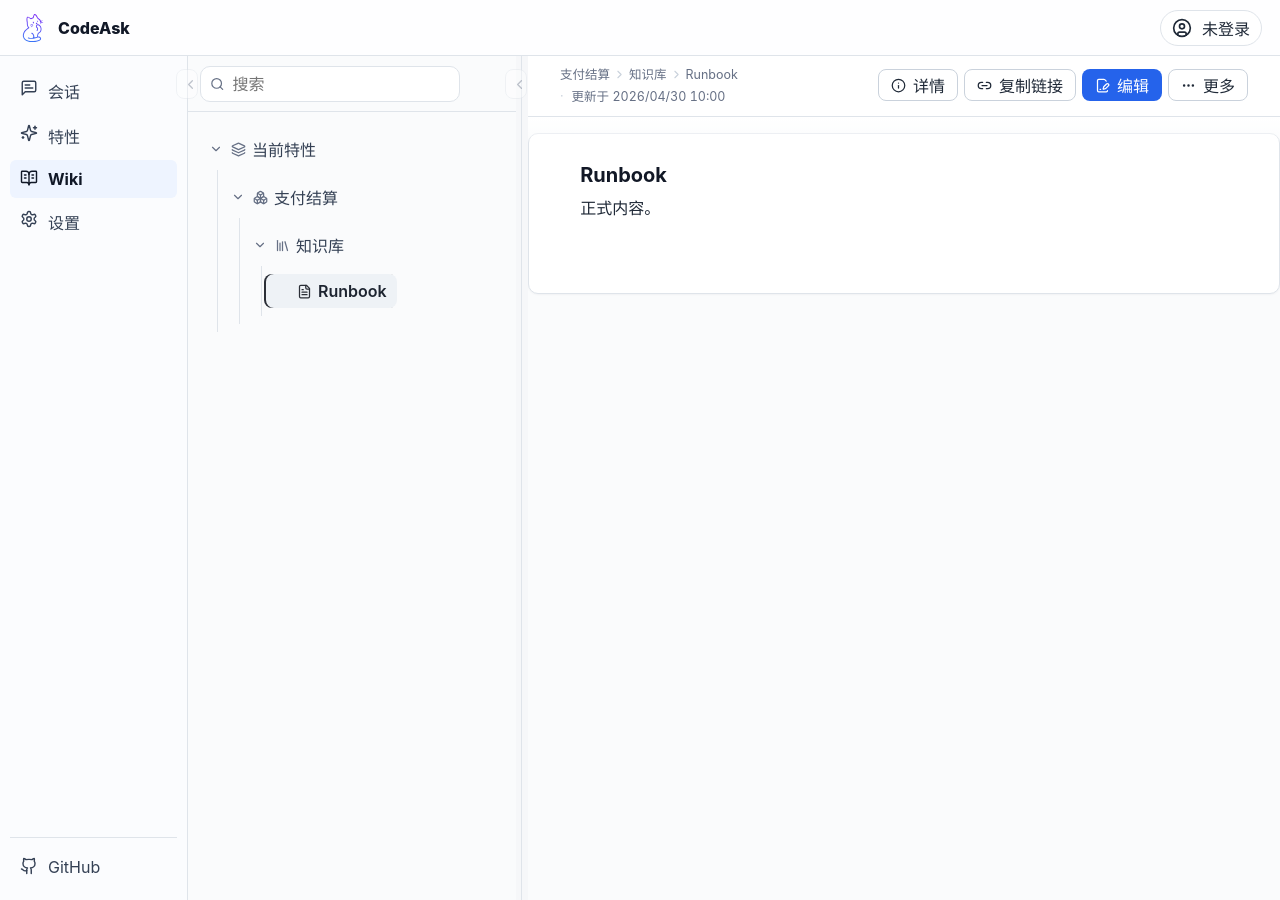
Test: Wiki edit leave workflow › restores the expanded tree after leaving edit mode when it was expanded before editing
The width and height of the screenshot is (1280, 900).
Expected: the field with placeholder "搜索" is shown, [232,67,450,101]
Click the button "编辑".
click(1122, 85)  # box [1082,69,1162,101]
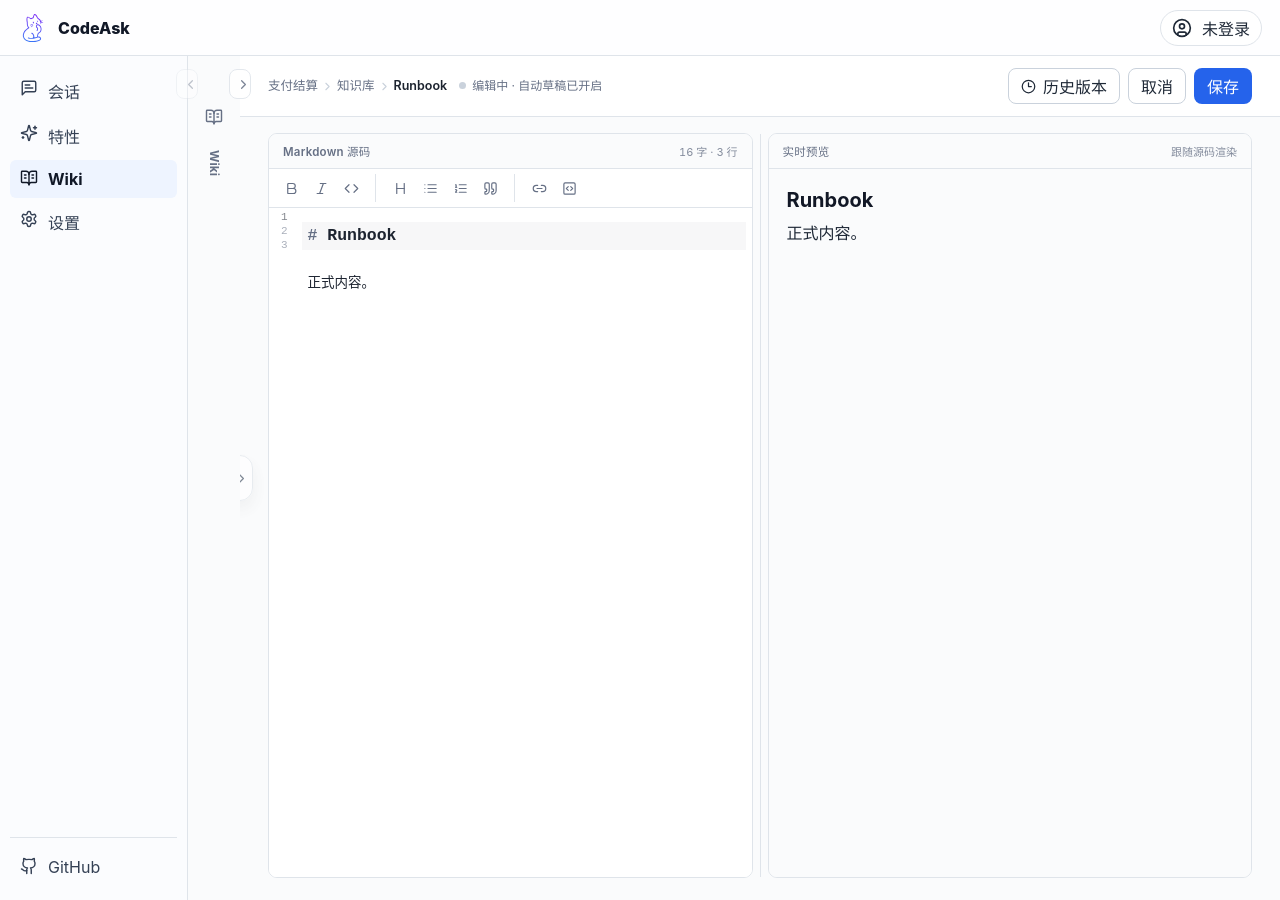
Result: the field with placeholder "搜索" is gone
Click the button "取消".
click(1157, 86)  # box [1128,68,1186,104]
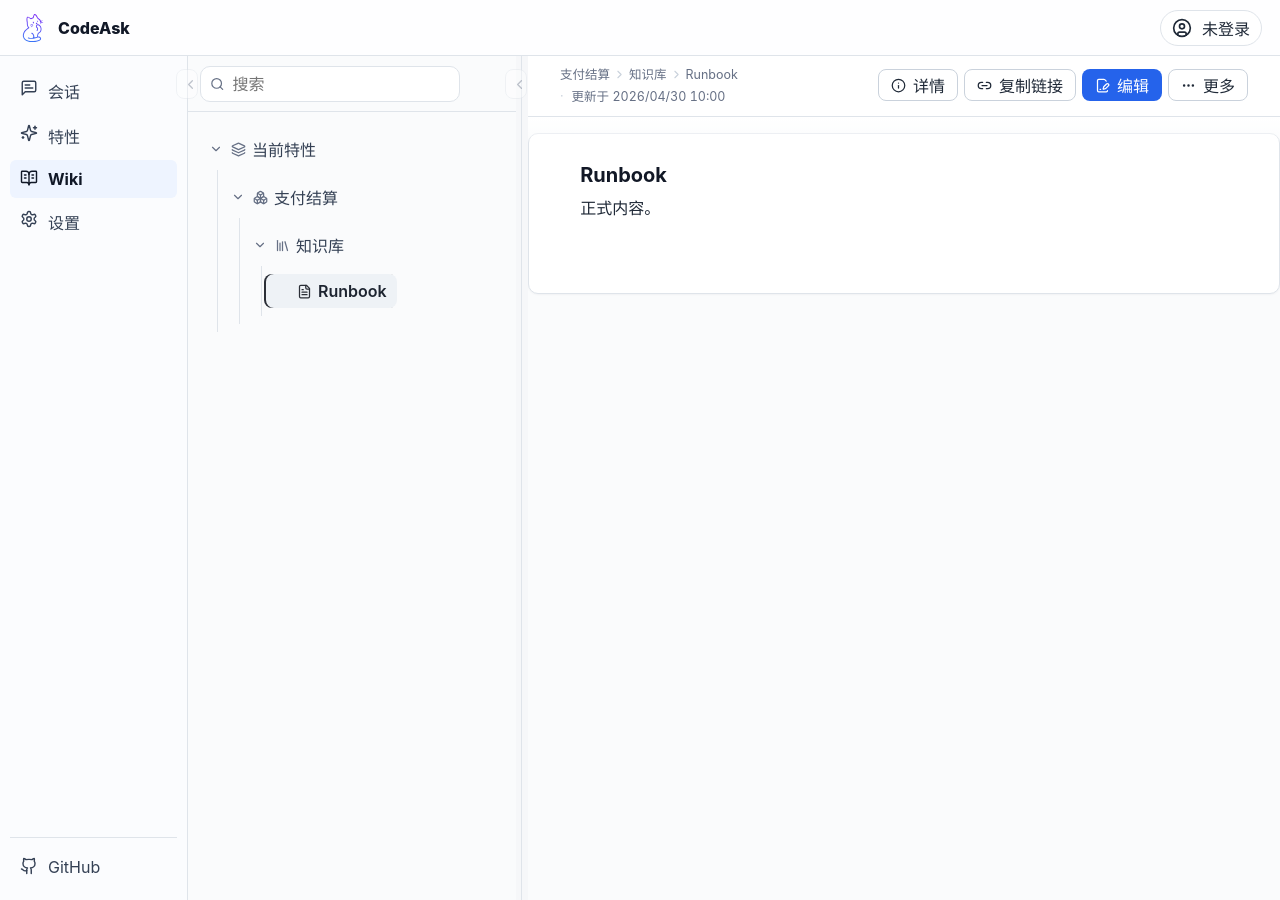
Result: the field with placeholder "搜索" is shown at [232,67,450,101]
Result: the button named "收起 Wiki 目录" is shown at [505,69,527,99]
